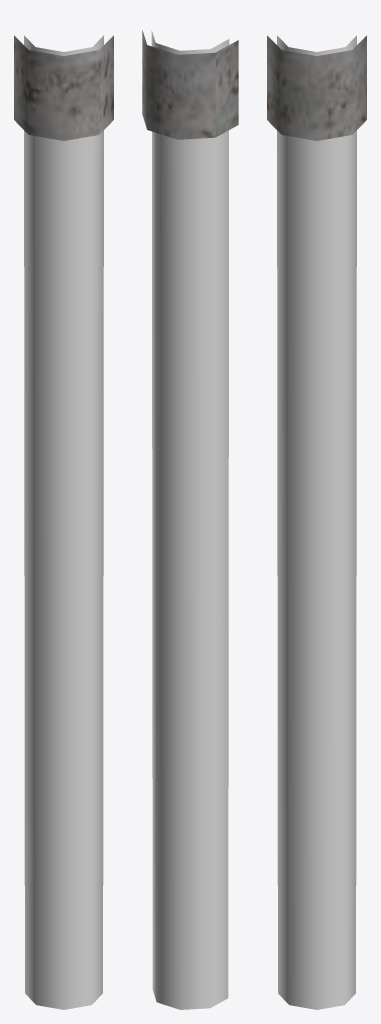
The model's file is leg_a.glb.
The picture shows the model from 3 angles, left to right: view 1: azimuth 90°, elevation 25°; view 2: azimuth 210°, elevation 25°; view 3: azimuth 270°, elevation 25°; orthographic projection.
Size of the model in its own units: 1.6 by 16.93 by 1.6.
Materials: 2 (1 with a texture image).
